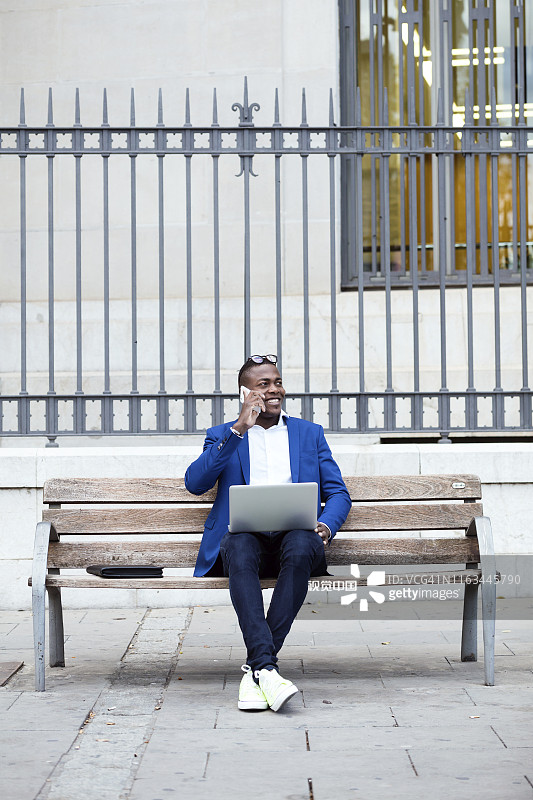calling: (222, 377, 272, 441)
